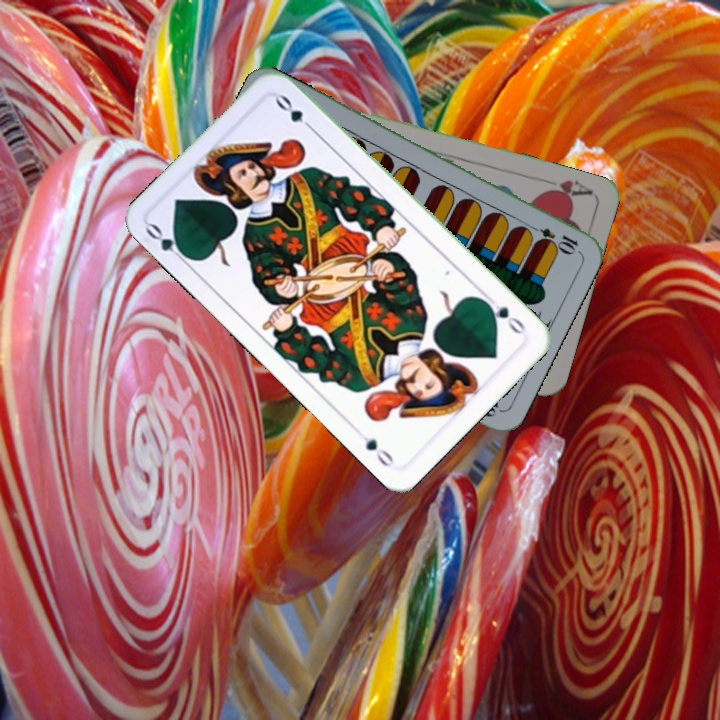E10: (523, 220, 581, 255)
GO: (141, 219, 193, 267), (479, 296, 528, 337)
HA: (537, 175, 595, 203)
